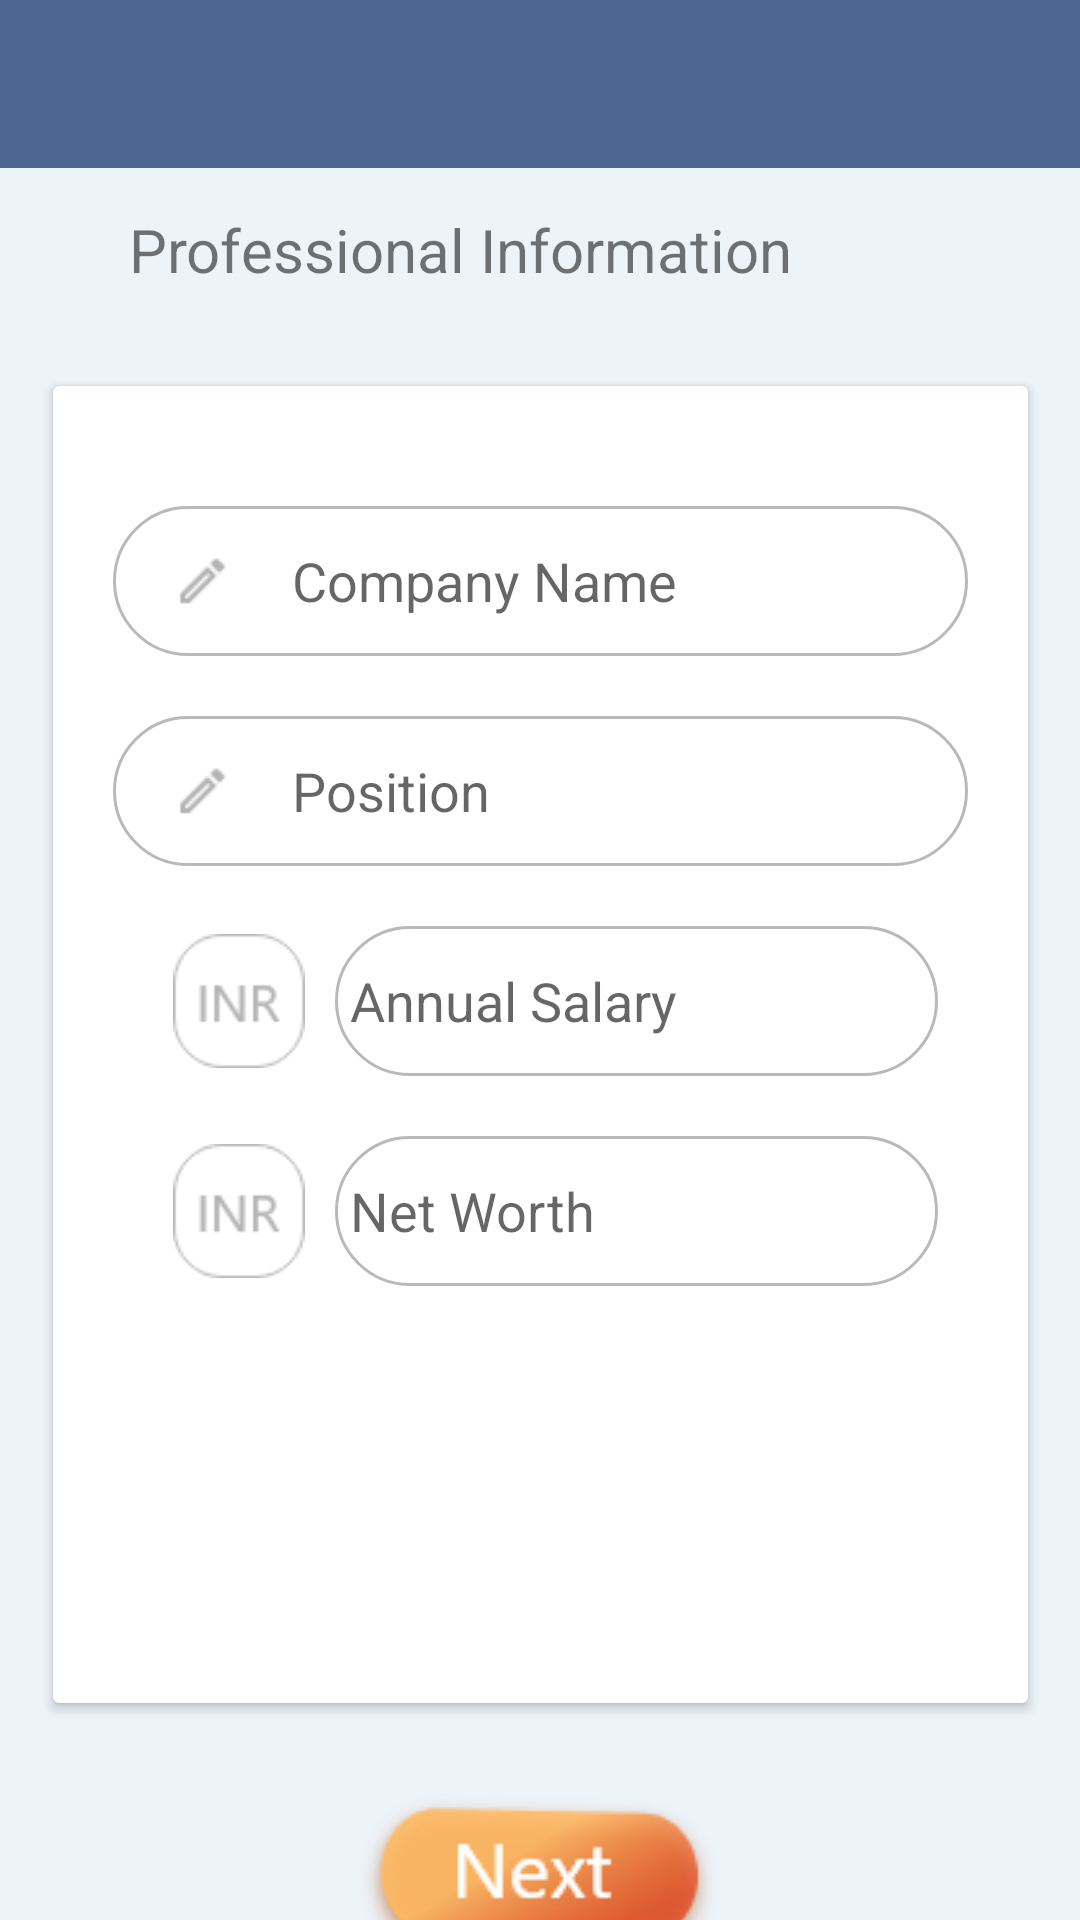

Icon click points for this 1080px×1920px phone screenshot, format [x,y]:
pencil: [202,581], [202,791]
